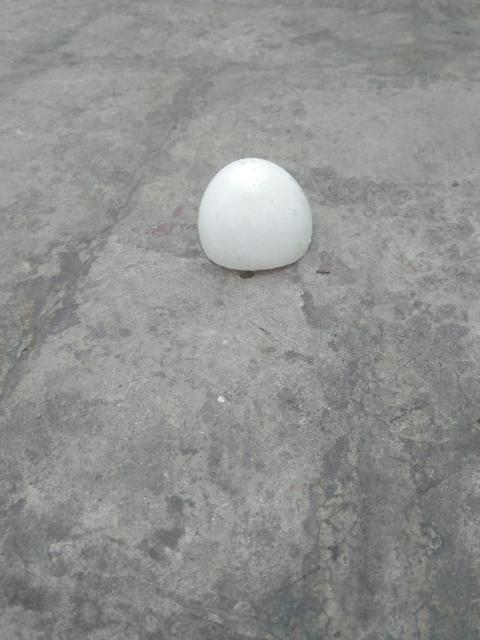Roto: (197, 156, 313, 272)
